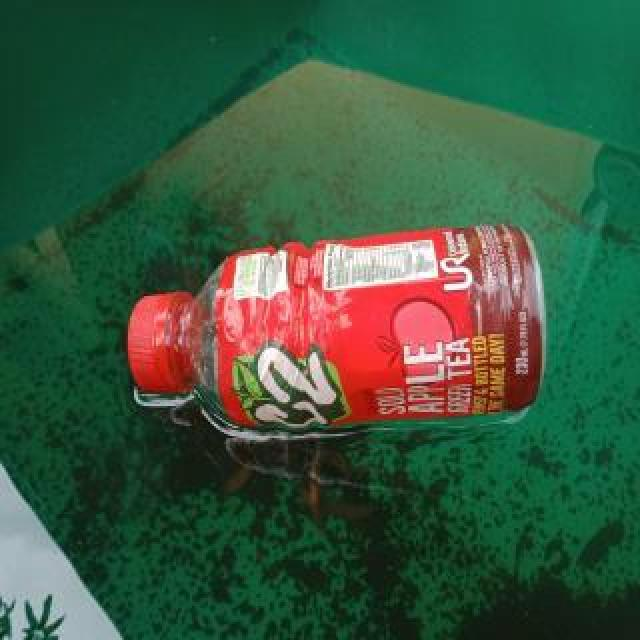bottle: (123, 217, 553, 443)
